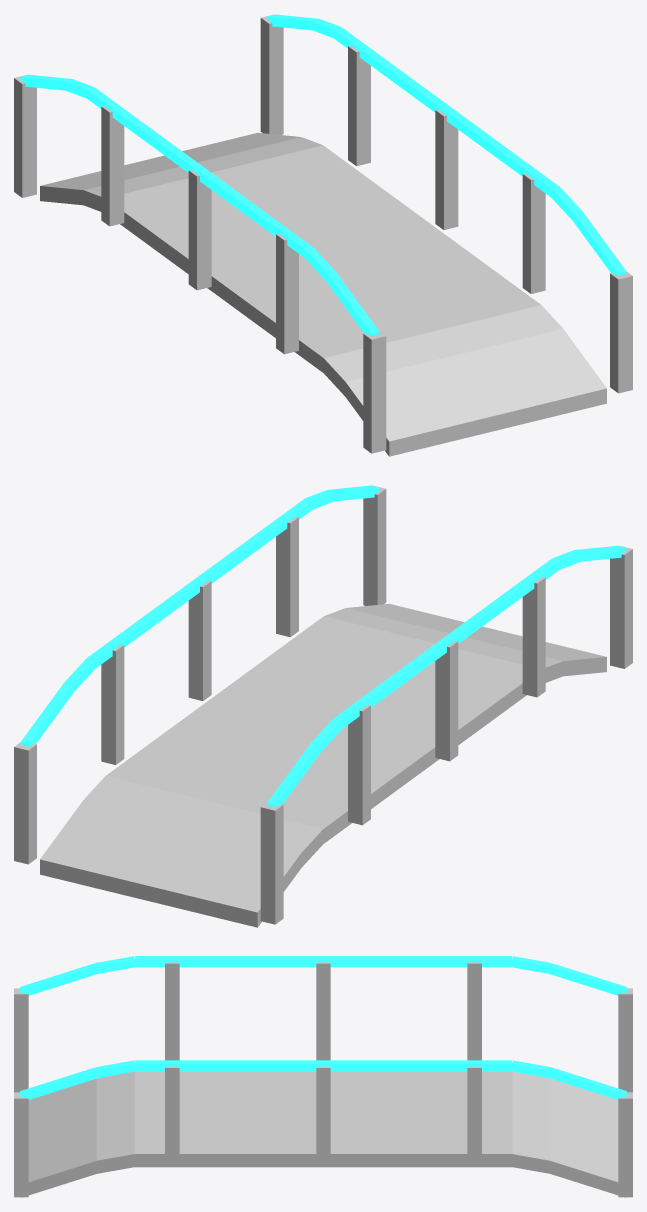
3 renders of one model, top to bottom at view 1: azimuth 30°, elevation 25°; view 2: azimuth 150°, elevation 25°; view 3: azimuth 270°, elevation 25°, orthographic. The views are drawn at different scales.
Visible parts, largest first — view 1: Neon_Footbridge_Simple; view 2: Neon_Footbridge_Simple; view 3: Neon_Footbridge_Simple.
Part boxes in pixels (box(x1,y1,x2,y2)): Neon_Footbridge_Simple: box(14, 14, 632, 456); Neon_Footbridge_Simple: box(14, 485, 632, 927); Neon_Footbridge_Simple: box(14, 956, 632, 1197).
Bounding box in the file's own units: 2.16 × 1.29 × 5.12.
